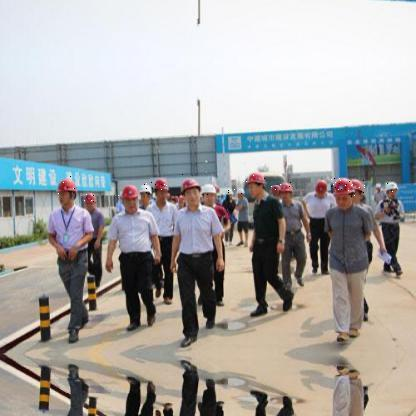safetyhelmet: (331, 178, 357, 198), (117, 186, 143, 204), (57, 176, 78, 197), (179, 174, 200, 194), (242, 174, 268, 186), (199, 182, 217, 198), (351, 176, 366, 194), (150, 178, 168, 192), (136, 182, 151, 198), (311, 178, 327, 192), (276, 180, 294, 192), (380, 182, 398, 194), (83, 192, 98, 204), (372, 182, 383, 190), (271, 186, 282, 194), (234, 188, 244, 196), (224, 190, 233, 194)
